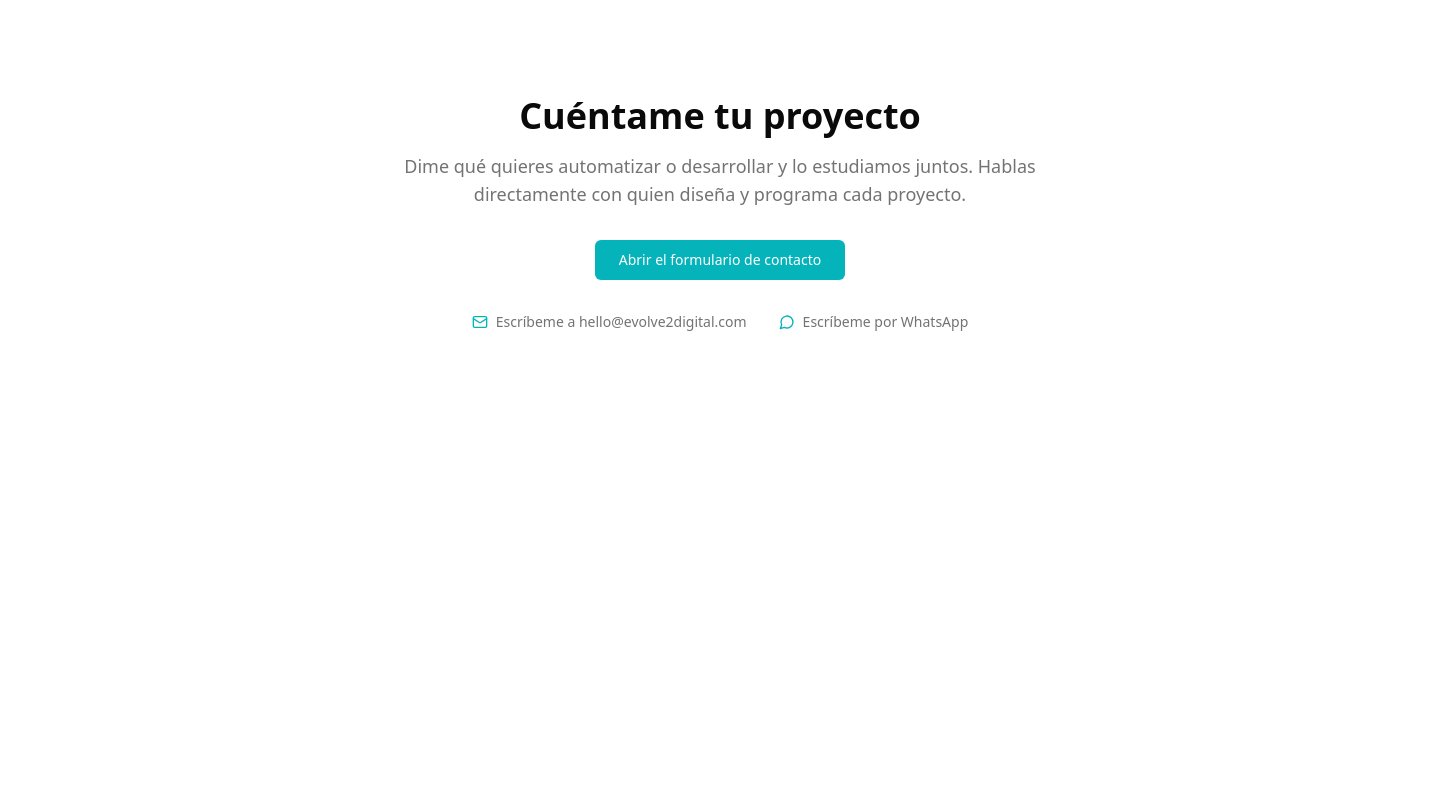
Test: ContactSection › keeps the lead form closed until the button is pressed, then opens it
Click the button "Abrir el formulario de contacto" at (720, 260), box [595, 240, 845, 280]
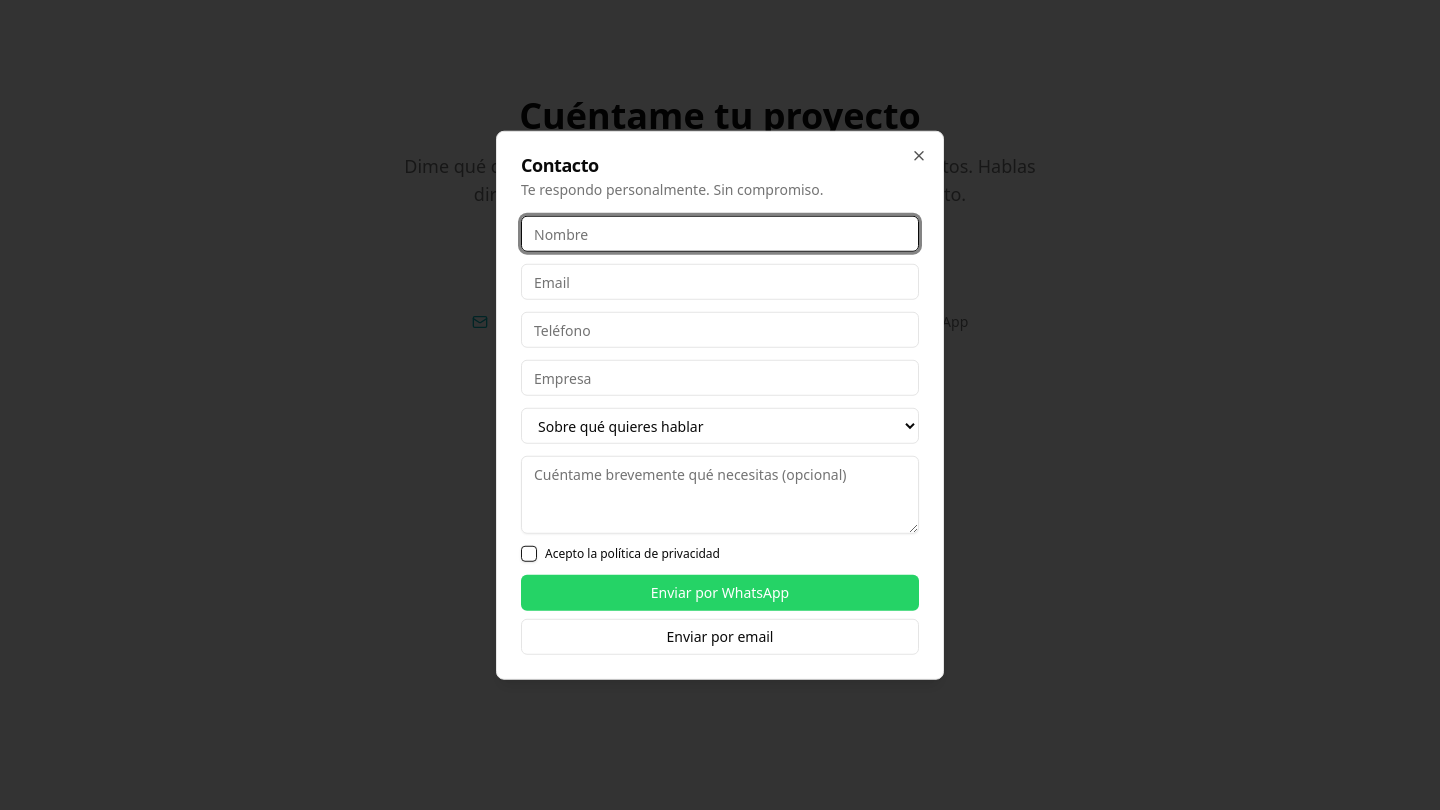
Expected: the form with test id "lead-form" is shown, [521, 216, 919, 654]
